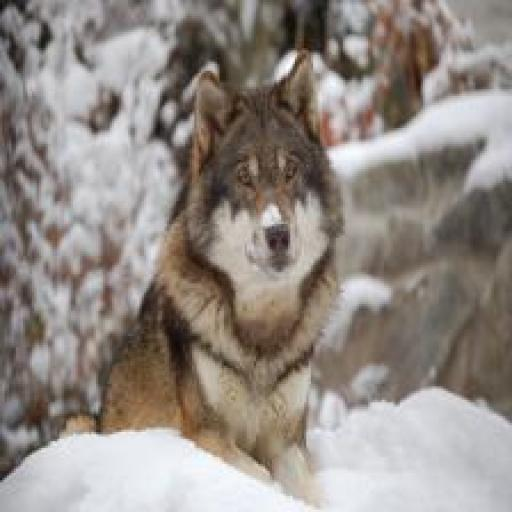wolf: (48, 48, 345, 512)
